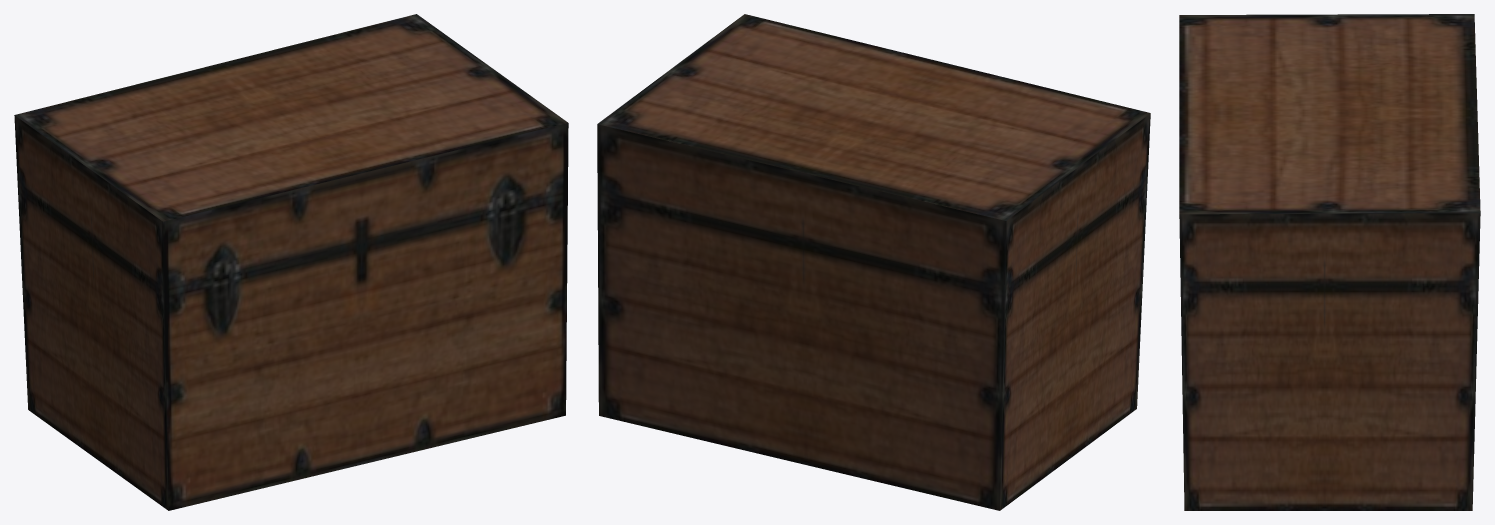
File: Trunk_square.fbx
The picture shows the model from 3 angles, left to right: view 1: azimuth 30°, elevation 25°; view 2: azimuth 150°, elevation 25°; view 3: azimuth 270°, elevation 25°; orthographic projection.
Parts seen in each view (by area): view 1: lod_high; view 2: lod_high; view 3: lod_high.
Part boxes in pixels (x1,y1,x2,y2): lod_high: (14, 14, 568, 510); lod_high: (597, 14, 1150, 510); lod_high: (1179, 14, 1480, 510).
Size of the model in its own units: 284 by 196 by 180.
1 material, 1 textured.
